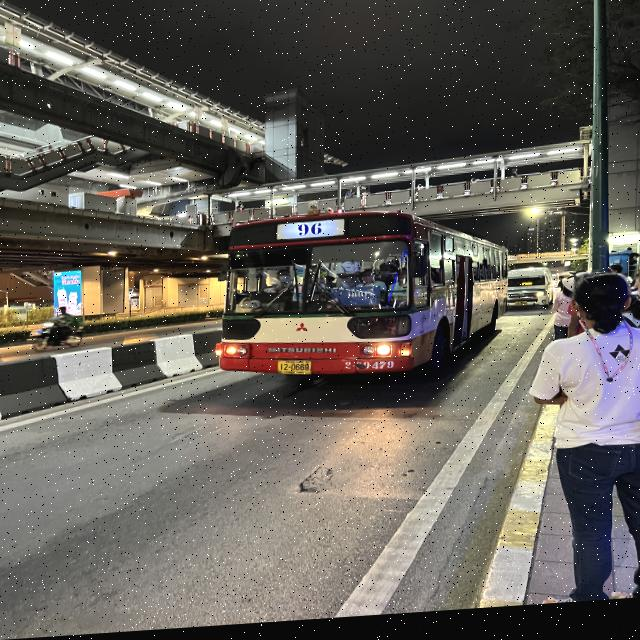BMTA-bus: (216, 207, 510, 392)
Bus-Line-Number: (278, 222, 346, 244)
Destination-Sign-Normal: (332, 289, 382, 314)
